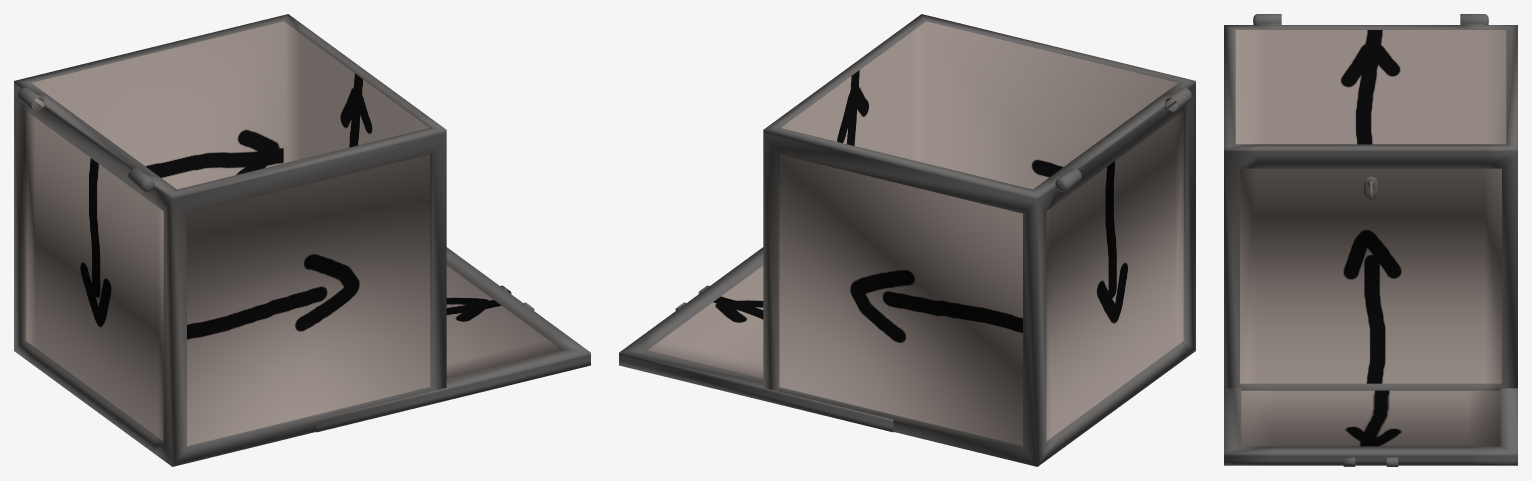
The model's file is SM_Interactables.fbx.
The picture shows the model from 3 angles, left to right: view 1: azimuth 30°, elevation 25°; view 2: azimuth 150°, elevation 25°; view 3: azimuth 270°, elevation 25°; orthographic projection. The views are drawn at different scales.
Parts seen in each view (by area): view 1: DeliveryBox, DeliveryBoxLid; view 2: DeliveryBox, DeliveryBoxLid; view 3: DeliveryBox, DeliveryBoxLid.
Part boxes in pixels (x1,y1,x2,y2): DeliveryBox: [14, 14, 446, 466]; DeliveryBoxLid: [316, 247, 590, 432]; DeliveryBox: [763, 14, 1195, 466]; DeliveryBoxLid: [619, 247, 893, 432]; DeliveryBox: [1224, 14, 1517, 390]; DeliveryBoxLid: [1224, 388, 1517, 466].
Size of the model in its own units: 136 by 102 by 85.
